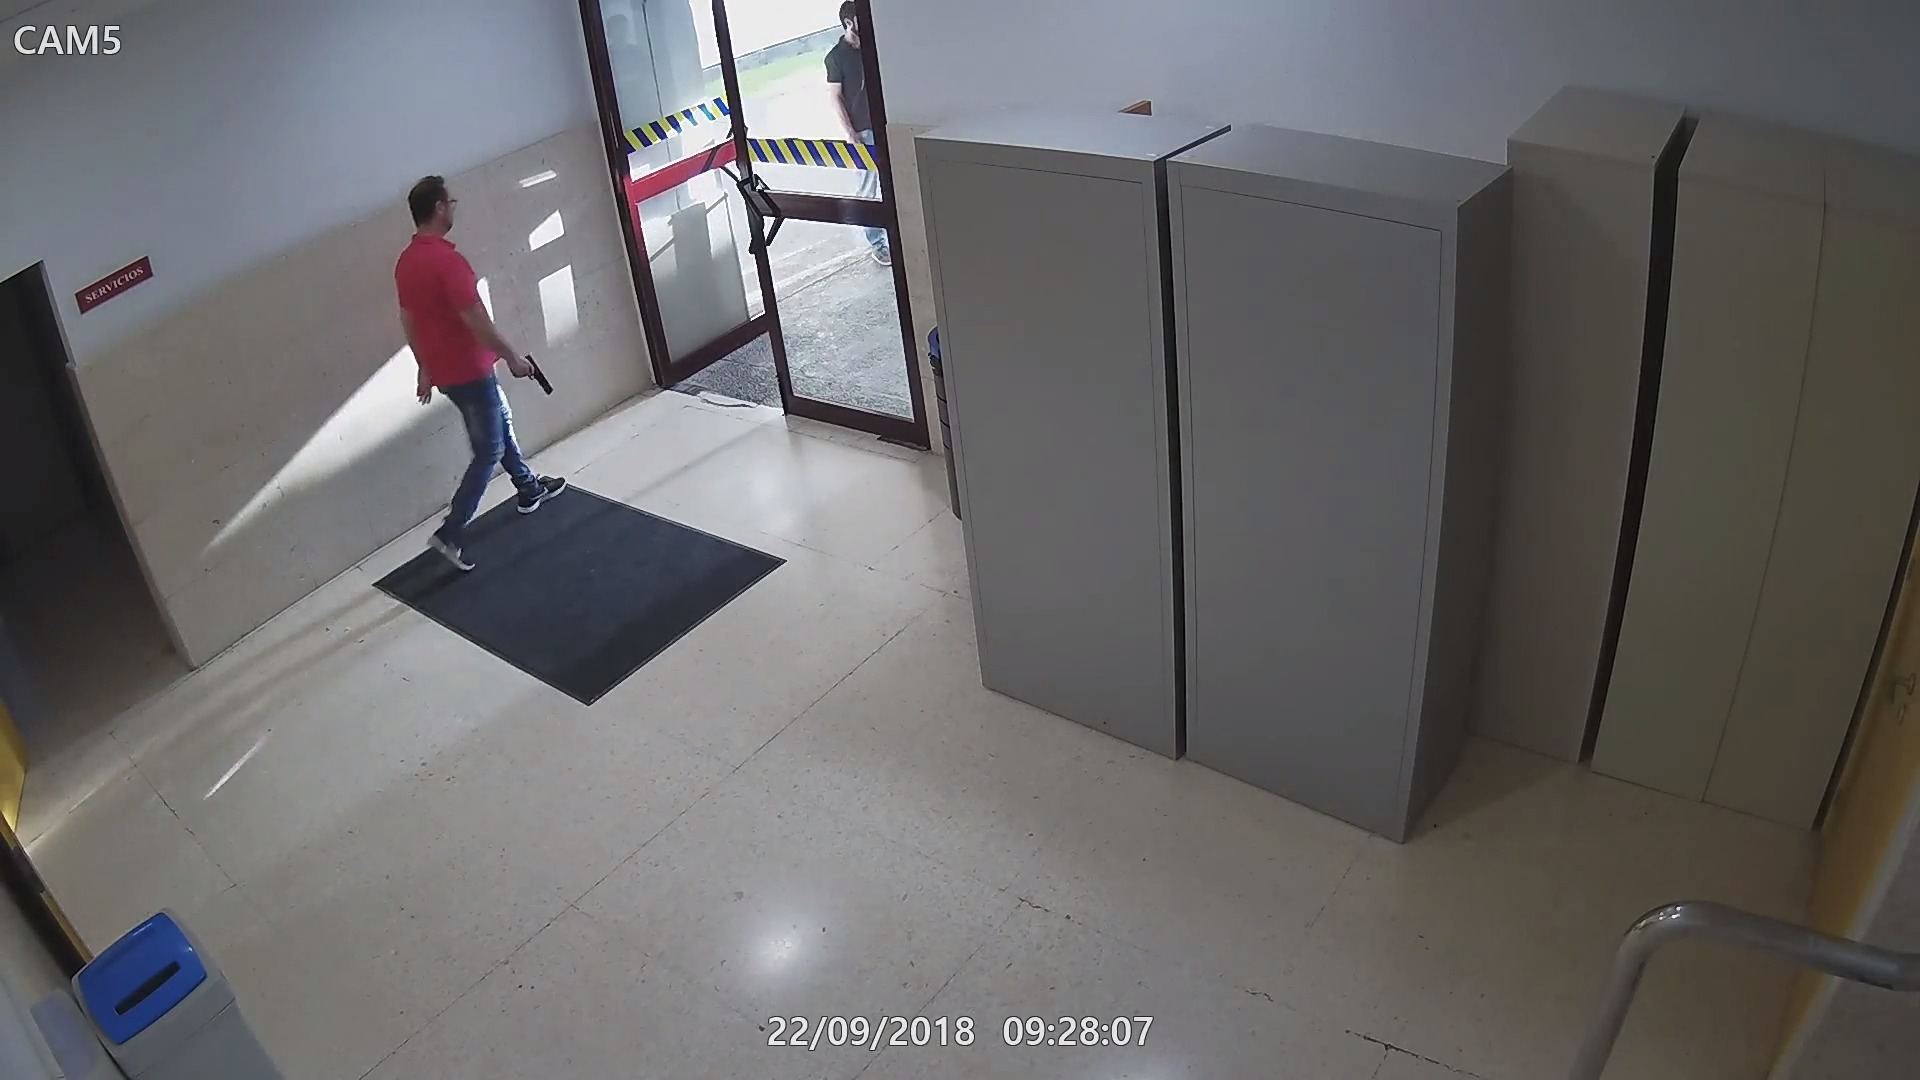Handgun: (502, 349, 555, 396)
